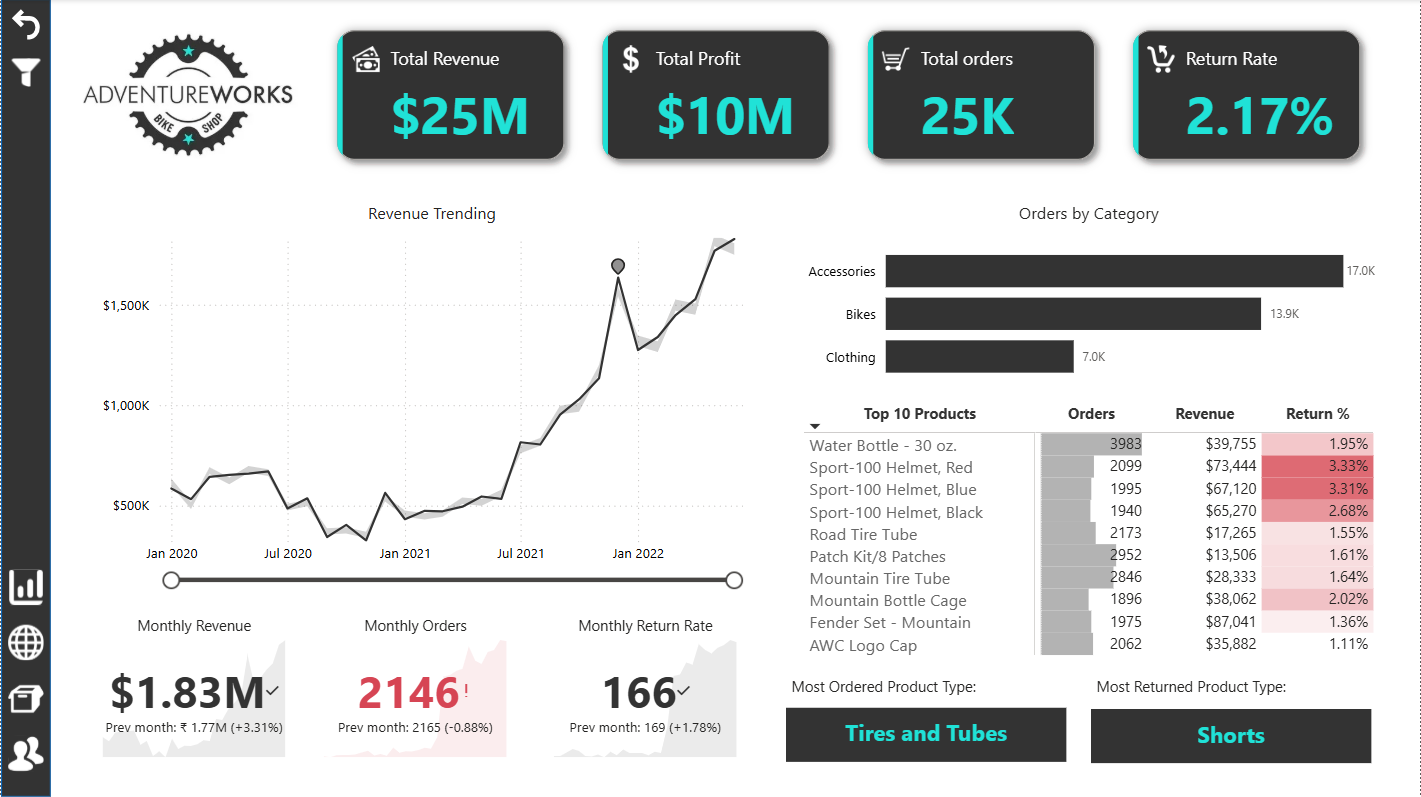

Layout of this report page (visuals, bound fields, positions):
{"tool":"powerbi","page":{"name":"Exec Dashboard","canvas":[1280,720],"ordinal":0},"visuals":[{"type":"image","title":"AW logo","box":[61,22.1,224.7,128.6],"z":0},{"type":"actionButton","box":[0,511.1,45.2,40.4],"z":0,"group":"g1"},{"type":"shape","title":"Left Nav Background","box":[0,0,45,719.5],"z":1000},{"type":"actionButton","box":[0,611.4,45.2,40.4],"z":1000,"group":"g1"},{"type":"actionButton","box":[0,661.5,45.2,40.4],"z":2000,"group":"g1"},{"type":"lineChart","title":"Revenue Trending","fields":{"Y":["Measure Table.Total Revenue"],"Category":["Calendar Lookup.Date Hierarchy.Start of Month"]},"box":[86.4,182.7,603.7,351.9],"z":3000},{"type":"actionButton","box":[0,561.2,45.2,40.4],"z":3000,"group":"g1"},{"type":"kpi","title":"Monthly Revenue","fields":{"Indicator":["Measure Table.Total Revenue"],"TrendLine":["Calendar Lookup.Date Hierarchy.Start of Month"],"Goal":["Measure Table.Previous month revenue"]},"box":[86.8,555.2,174.9,133.3],"z":4000},{"type":"kpi","title":"Monthly Orders","fields":{"TrendLine":["Calendar Lookup.Date Hierarchy.Start of Month"],"Indicator":["Measure Table.Total orders"],"Goal":["Measure Table.Previous Month Orders"]},"box":[286.1,555.2,174.9,133.3],"z":5000},{"type":"kpi","title":"Monthly Return Rate","fields":{"TrendLine":["Calendar Lookup.Date Hierarchy.Start of Month"],"Goal":["Measure Table.Previous Month Returns"],"Indicator":["Measure Table.Total returns"]},"box":[494,555.2,174.9,133.3],"z":6000},{"type":"barChart","title":"Orders by Category","fields":{"Y":["Measure Table.Total orders"],"Category":["Product Categories Lookup.CategoryName"]},"box":[718.5,182.7,525.9,176.5],"z":7000},{"type":"pivotTable","fields":{"Rows":["Product Lookup.ProductName"],"Values":["Measure Table.Total orders","Measure Table.Total Revenue","Measure Table.Return Rate"]},"box":[719,359.5,525.8,240.9],"z":8000},{"type":"card","fields":{"Values":["Min(Product Subcategories Lookup.SubcategoryName)"]},"box":[708,639.5,253.1,48.9],"z":9000},{"type":"textbox","box":[708,605.3,221.3,34.2],"z":10000},{"type":"card","fields":{"Values":["Min(Product Subcategories Lookup.SubcategoryName)"]},"box":[983.1,639.8,253.1,48.9],"z":11000},{"type":"textbox","box":[983.1,605.5,221.3,34.2],"z":12000},{"type":"actionButton","title":"Reset Button","box":[0,2.4,45.2,40.4],"z":13000},{"type":"group","id":"g1","title":"Navigation Icon","box":[0,511.1,45.2,190.8],"z":14000},{"type":"actionButton","box":[0,46.5,45.2,40.4],"z":15000},{"type":"cardVisual","title":"KPIs","fields":{"Data":["Measure Table.Total Revenue","Measure Table.Total Profit","Measure Table.Total orders","Measure Table.Return Rate"]},"box":[286.1,11,958.7,151.6],"z":17000}]}

Visuals, with their boxes on the page's 1280x720 design canvas (x1, y1, x2, y2). These are canvas units, not pixel positions in the 1421x797 screenshot, which may show the page scaled, cropped or inside an application window:
"AW logo" image: {"left": 61, "top": 22, "right": 286, "bottom": 151}
actionButton: {"left": 0, "top": 511, "right": 45, "bottom": 552}
"Left Nav Background" shape: {"left": 0, "top": 0, "right": 45, "bottom": 720}
actionButton: {"left": 0, "top": 611, "right": 45, "bottom": 652}
actionButton: {"left": 0, "top": 662, "right": 45, "bottom": 702}
"Revenue Trending" lineChart: {"left": 86, "top": 183, "right": 690, "bottom": 535}
actionButton: {"left": 0, "top": 561, "right": 45, "bottom": 602}
"Monthly Revenue" kpi: {"left": 87, "top": 555, "right": 262, "bottom": 688}
"Monthly Orders" kpi: {"left": 286, "top": 555, "right": 461, "bottom": 688}
"Monthly Return Rate" kpi: {"left": 494, "top": 555, "right": 669, "bottom": 688}
"Orders by Category" barChart: {"left": 718, "top": 183, "right": 1244, "bottom": 359}
pivotTable - Product Lookup.ProductName x Measure Table.Total orders: {"left": 719, "top": 360, "right": 1245, "bottom": 600}
card - Min(Product Subcategories Lookup.SubcategoryName): {"left": 708, "top": 640, "right": 961, "bottom": 688}
textbox: {"left": 708, "top": 605, "right": 929, "bottom": 640}
card - Min(Product Subcategories Lookup.SubcategoryName): {"left": 983, "top": 640, "right": 1236, "bottom": 689}
textbox: {"left": 983, "top": 606, "right": 1204, "bottom": 640}
"Reset Button" actionButton: {"left": 0, "top": 2, "right": 45, "bottom": 43}
"Navigation Icon" group: {"left": 0, "top": 511, "right": 45, "bottom": 702}
actionButton: {"left": 0, "top": 46, "right": 45, "bottom": 87}
"KPIs" cardVisual: {"left": 286, "top": 11, "right": 1245, "bottom": 163}
